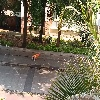fire: (33, 52, 40, 60)
